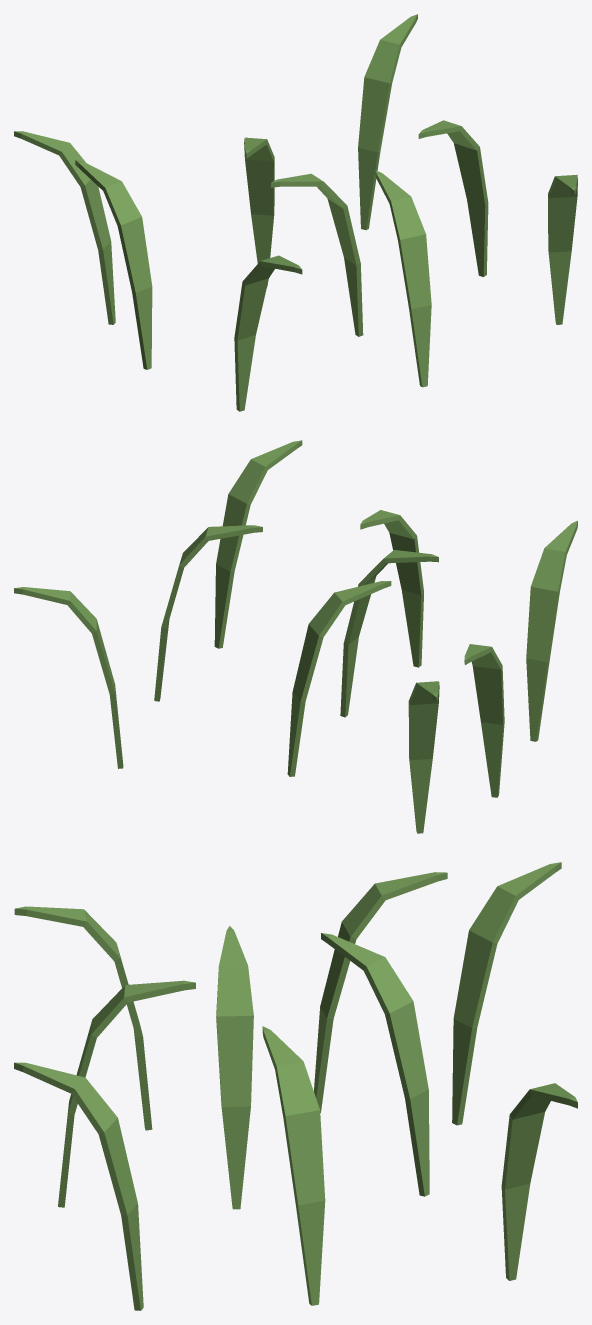
The model's file is Wheat_1.glb.
The picture shows the model from 3 angles, top to bottom: view 1: azimuth 30°, elevation 25°; view 2: azimuth 150°, elevation 25°; view 3: azimuth 270°, elevation 25°; orthographic projection. The views are drawn at different scales.
Visible parts, largest first — view 1: Wheat_1.011, Wheat_1.005, Wheat_1.006, Wheat_1.003, Wheat_1.002, Wheat_1.009, Wheat_1.010, Wheat_1.007, Wheat_1; view 2: Wheat_1.003, Wheat_1.009, Wheat_1.007, Wheat_1.006, Wheat_1.010, Wheat_1.011, Wheat_1, Wheat_1.005, Wheat_1.002; view 3: Wheat_1.002, Wheat_1, Wheat_1.007, Wheat_1.010, Wheat_1.009, Wheat_1.005, Wheat_1.006, Wheat_1.011, Wheat_1.003.
Boxes of the visible parts, bbox=[...] form: Wheat_1.011: bbox=[375, 170, 431, 387]; Wheat_1.005: bbox=[358, 14, 417, 230]; Wheat_1.006: bbox=[75, 160, 152, 369]; Wheat_1.003: bbox=[234, 255, 302, 411]; Wheat_1.002: bbox=[418, 120, 488, 276]; Wheat_1.009: bbox=[548, 174, 577, 324]; Wheat_1.010: bbox=[14, 131, 115, 324]; Wheat_1.007: bbox=[244, 137, 274, 286]; Wheat_1: bbox=[271, 173, 363, 336]; Wheat_1.003: bbox=[526, 520, 577, 741]; Wheat_1.009: bbox=[214, 440, 302, 648]; Wheat_1.007: bbox=[287, 581, 391, 776]; Wheat_1.006: bbox=[464, 644, 504, 797]; Wheat_1.010: bbox=[408, 681, 439, 833]; Wheat_1.011: bbox=[360, 510, 423, 667]; Wheat_1: bbox=[340, 550, 438, 717]; Wheat_1.005: bbox=[14, 587, 123, 768]; Wheat_1.002: bbox=[154, 525, 262, 701]; Wheat_1.002: bbox=[262, 1026, 325, 1305]; Wheat_1: bbox=[216, 926, 253, 1209]; Wheat_1.007: bbox=[321, 933, 429, 1196]; Wheat_1.010: bbox=[452, 862, 561, 1125]; Wheat_1.009: bbox=[14, 1062, 143, 1310]; Wheat_1.005: bbox=[501, 1083, 577, 1280]; Wheat_1.006: bbox=[314, 872, 447, 1112]; Wheat_1.011: bbox=[58, 980, 195, 1207]; Wheat_1.003: bbox=[14, 906, 152, 1130].
Size of the model in its own units: 0.5332 by 0.2349 by 0.4963.
